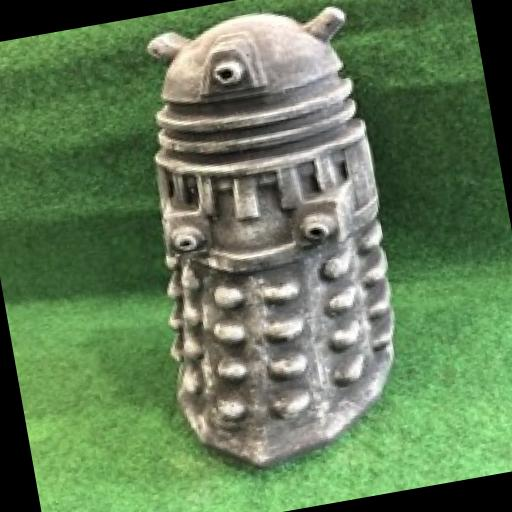dalek: (101, 0, 430, 485)
